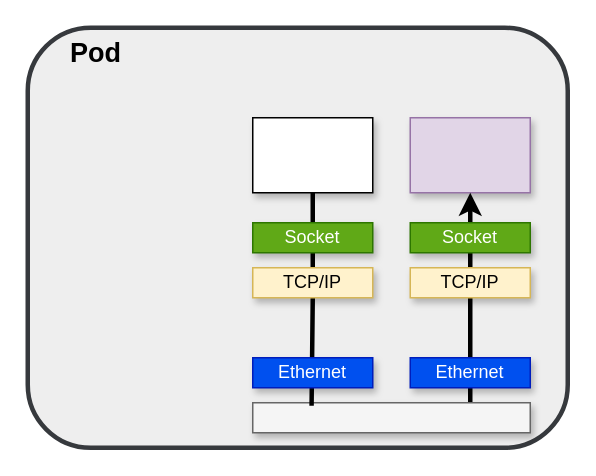
Image size: 596x476. Some labels were removed from this diagram. Each missing label, with the centre of its shape:
"envoy" belongs at [313,156].
"Loopback" belongs at [392,419].
"server" belongs at [471,156].
